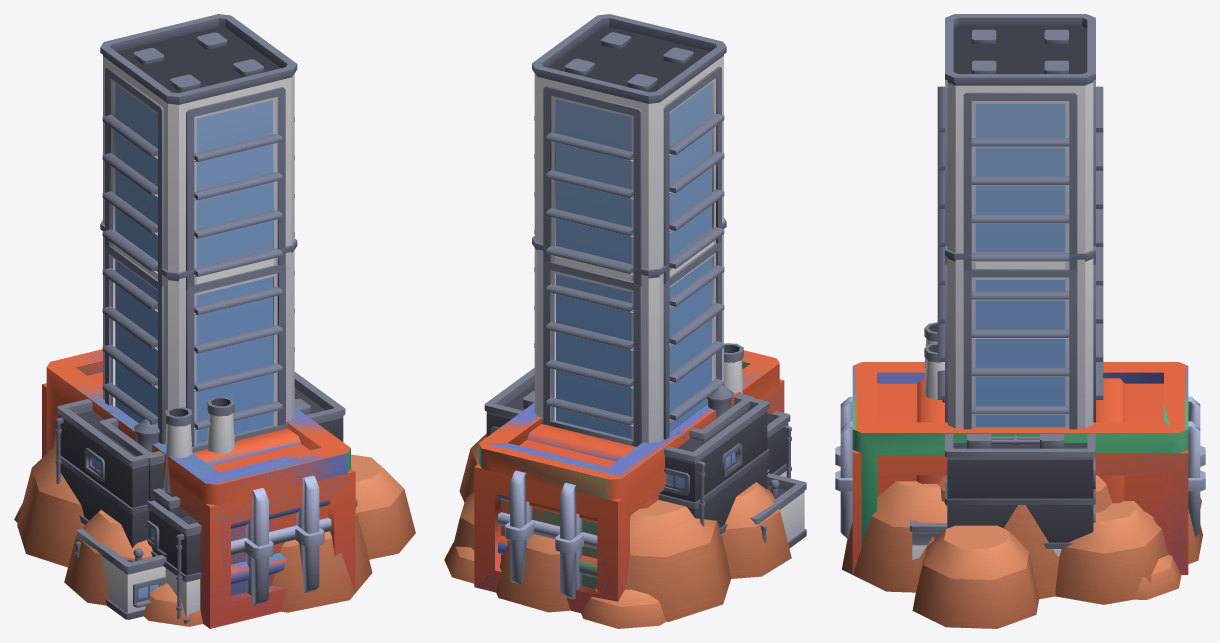
File: ruins.glb
The picture shows the model from 3 angles, left to right: view 1: azimuth 30°, elevation 25°; view 2: azimuth 150°, elevation 25°; view 3: azimuth 270°, elevation 25°; orthographic projection.
Visible parts, largest first — view 1: rui_skyscraper_B, rui_container_A, rui_cargo_pile_B, rui_skyscraper_A, rui_factory_A, rui_cargo_container_A, rui_container_B, rui_cargo_pile_A, rui_plant_A, rui_factory_D, rui_factory_E, rui_factory_F (+2 smaller); view 2: rui_skyscraper_B, rui_container_A, rui_skyscraper_A, rui_cargo_pile_B, rui_factory_A, rui_cargo_pile_A, rui_cargo_container_A, rui_container_B, rui_container_C, rui_factory_D, rui_plant_A, rui_factory_E (+2 smaller); view 3: rui_skyscraper_B, rui_cargo_pile_B, rui_factory_A, rui_skyscraper_A, rui_container_A, rui_cargo_pile_A, rui_container_C, rui_cargo_container_A, rui_container_B, rui_cargo_container_B, rui_factory_E, rui_factory_B.
Part boxes in pixels (<box>): rui_skyscraper_B: <box>100,14,297,445</box>; rui_container_A: <box>46,349,350,605</box>; rui_cargo_pile_B: <box>14,454,415,626</box>; rui_skyscraper_A: <box>100,220,297,446</box>; rui_factory_A: <box>55,372,345,547</box>; rui_cargo_container_A: <box>42,383,355,628</box>; rui_container_B: <box>51,353,347,603</box>; rui_cargo_pile_A: <box>17,445,84,567</box>; rui_plant_A: <box>147,500,201,623</box>; rui_factory_D: <box>75,528,167,619</box>; rui_factory_E: <box>152,396,234,517</box>; rui_factory_F: <box>99,417,236,537</box>; rui_skyscraper_B: <box>532,14,726,443</box>; rui_container_A: <box>479,350,779,599</box>; rui_skyscraper_A: <box>532,218,726,446</box>; rui_cargo_pile_B: <box>444,433,791,628</box>; rui_factory_A: <box>484,368,769,535</box>; rui_cargo_pile_A: <box>451,491,730,621</box>; rui_cargo_container_A: <box>474,379,784,613</box>; rui_container_B: <box>482,354,768,599</box>; rui_container_C: <box>478,359,764,598</box>; rui_factory_D: <box>750,469,806,548</box>; rui_plant_A: <box>767,411,791,478</box>; rui_factory_E: <box>724,343,743,393</box>; rui_skyscraper_B: <box>937,14,1103,428</box>; rui_cargo_pile_B: <box>842,481,1202,628</box>; rui_factory_A: <box>945,434,1095,556</box>; rui_skyscraper_A: <box>937,246,1103,429</box>; rui_container_A: <box>838,362,1204,449</box>; rui_cargo_pile_A: <box>918,475,1168,604</box>; rui_container_C: <box>835,367,1205,545</box>; rui_cargo_container_A: <box>852,450,1188,574</box>; rui_container_B: <box>835,365,1205,540</box>; rui_cargo_container_B: <box>882,455,1187,572</box>; rui_factory_E: <box>924,322,944,399</box>; rui_factory_B: <box>910,520,947,559</box>.
Size of the model in its own units: 3.05 by 4.59 by 3.05.
5 materials, 5 textured.
